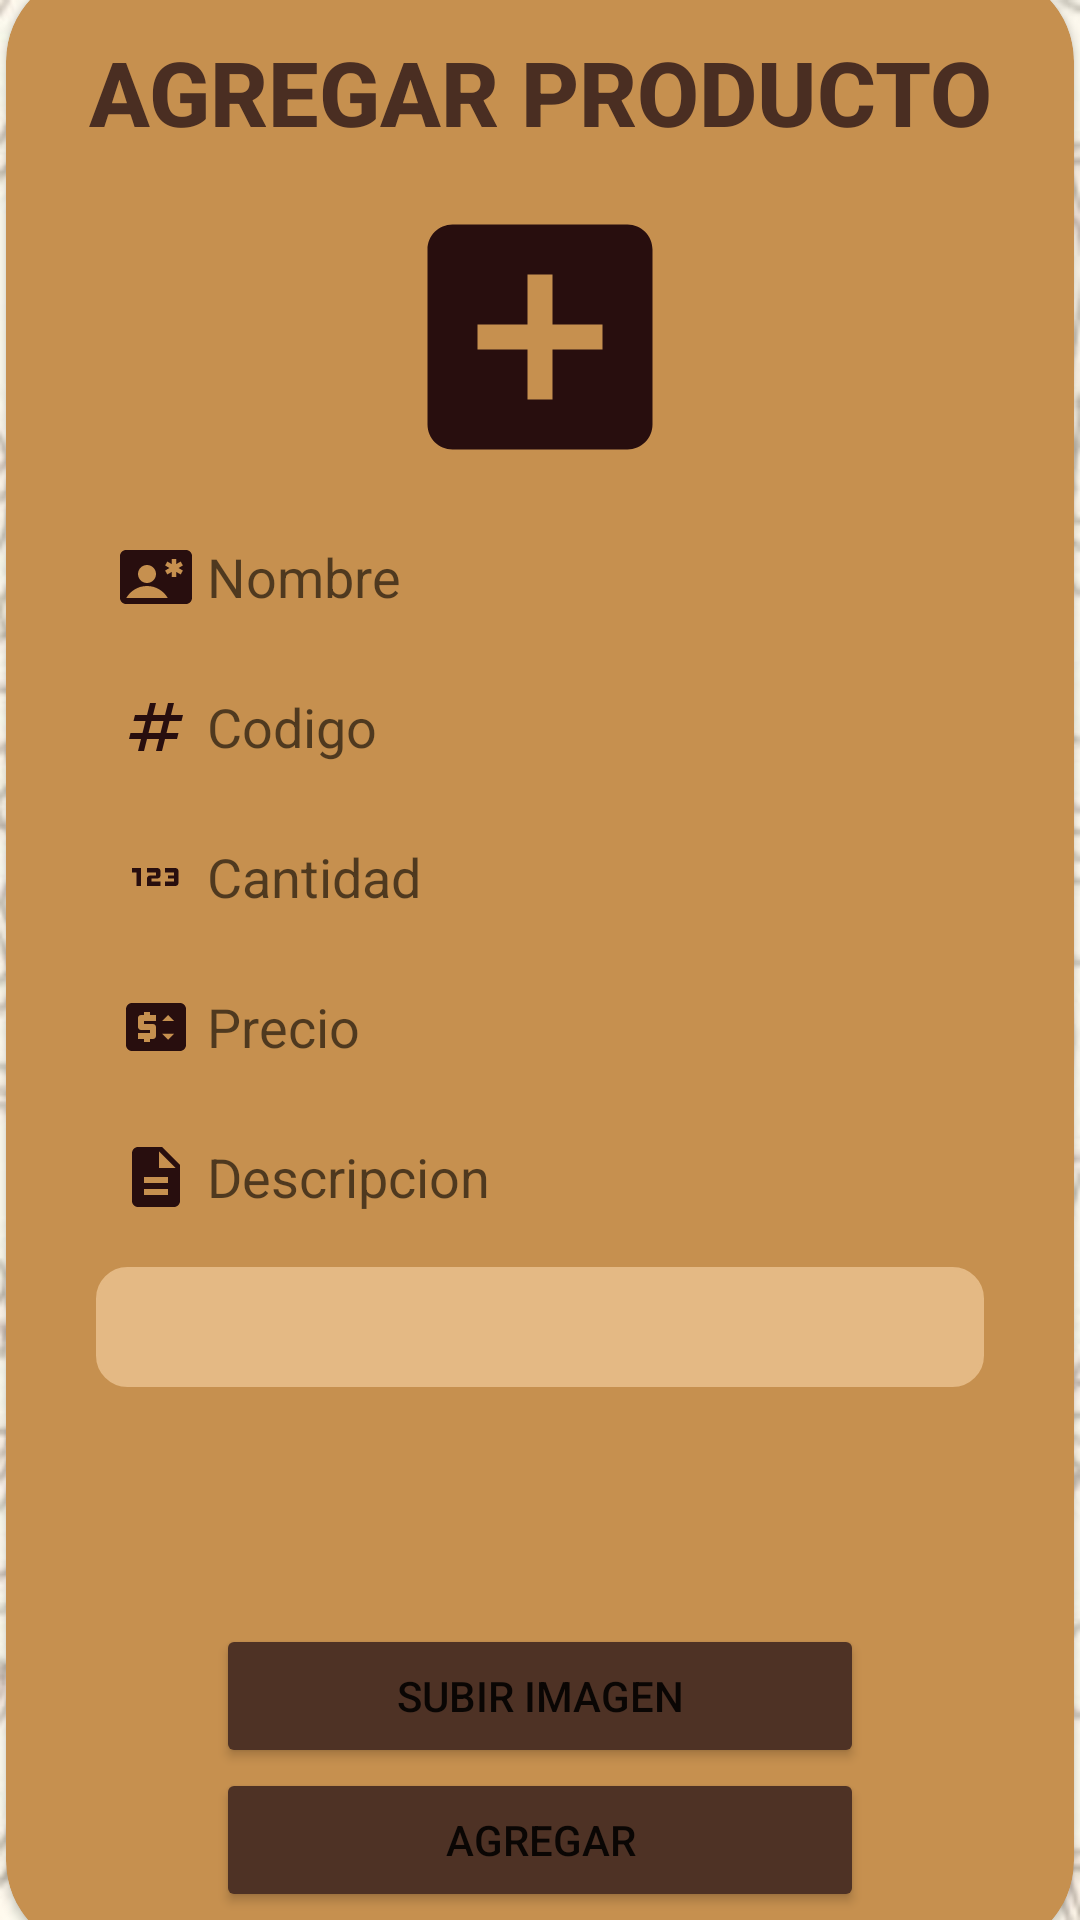

Screen size 1080×1920. Icon name, then its box in pixels as (left=x1, top=y1, right=x2, bottom=y2):
add box: (left=427, top=224, right=653, bottom=450)
